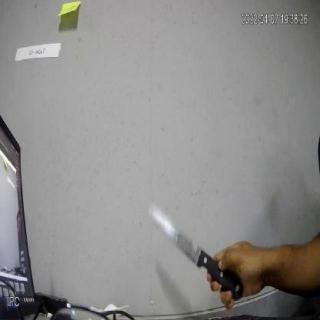knife: (141, 191, 249, 308)
